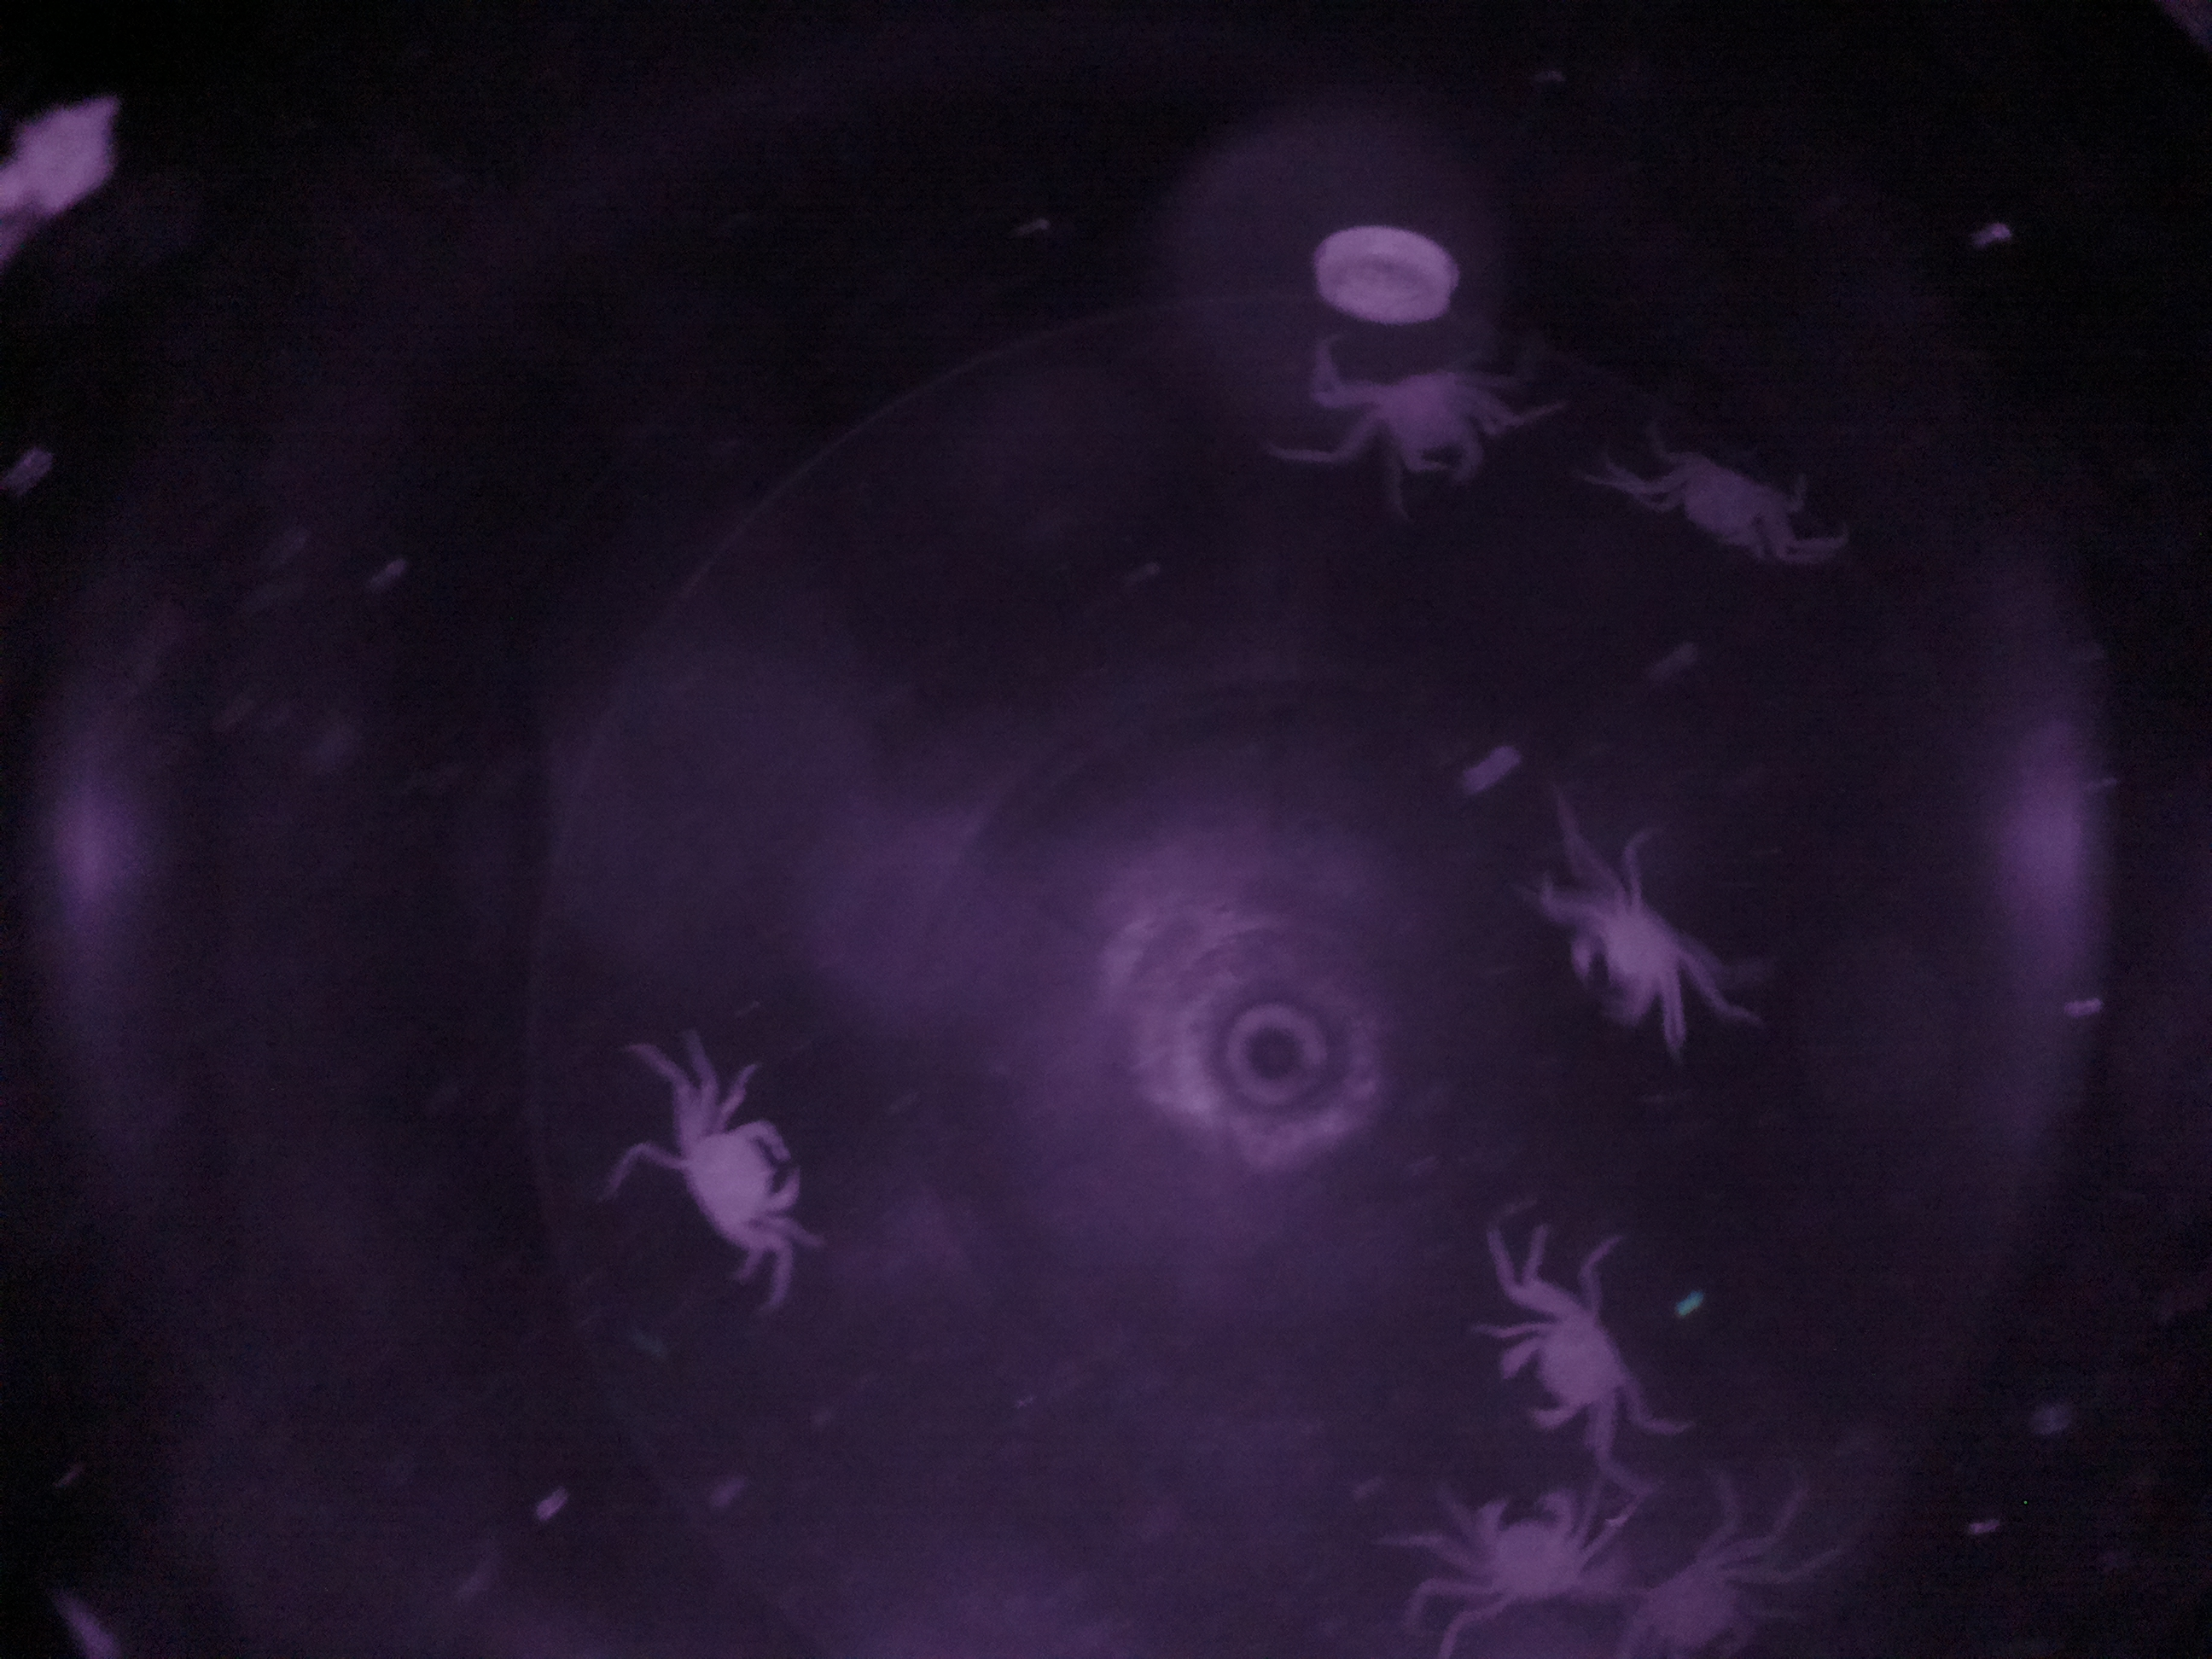Crab: (625, 1073, 794, 1286), (1461, 1270, 1649, 1457)
